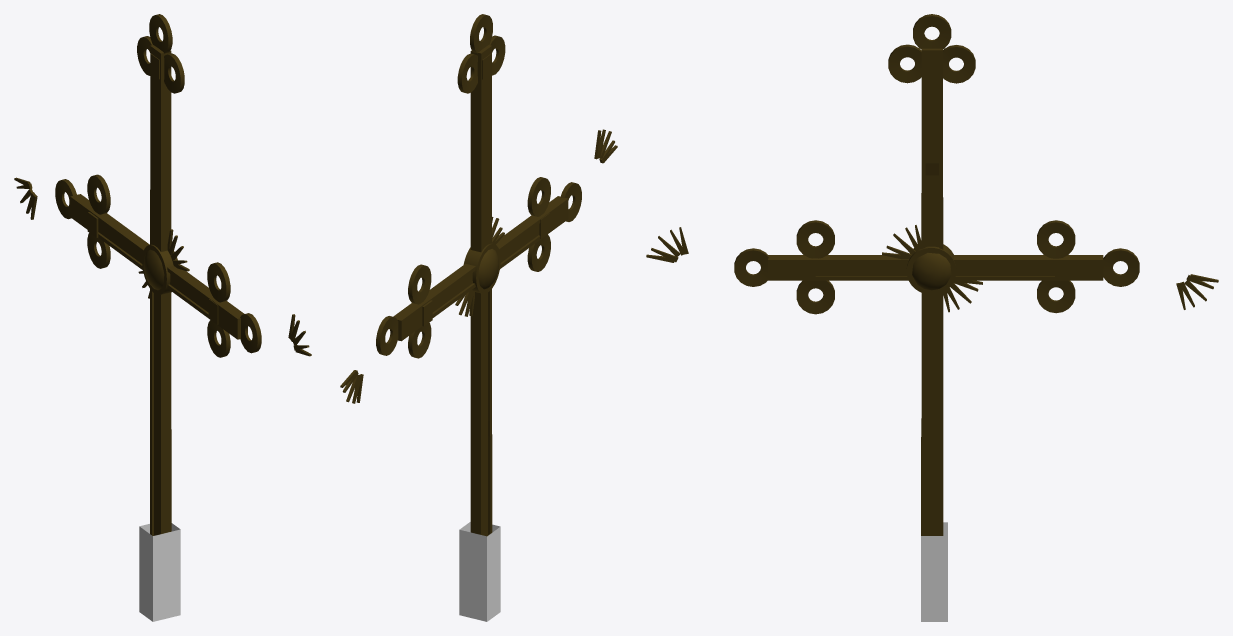
The model's file is Krest.FBX.
3 views of the same model, side by side, from view 1: azimuth 30°, elevation 25°; view 2: azimuth 150°, elevation 25°; view 3: azimuth 270°, elevation 25° (orthographic).
Parts seen in each view (by area): view 1: cross005, Box001; view 2: cross005, Box001, Object002, Object003; view 3: cross005, Box001.
Boxes of the visible parts, x1=… form: cross005: x1=55, y1=14, x2=261, y2=535; Box001: x1=139, y1=523, x2=180, y2=621; cross005: x1=376, y1=14, x2=581, y2=536; Box001: x1=459, y1=522, x2=500, y2=621; Object002: x1=340, y1=370, x2=363, y2=403; Object003: x1=594, y1=129, x2=617, y2=163; cross005: x1=734, y1=14, x2=1139, y2=535; Box001: x1=921, y1=522, x2=947, y2=621.
Bounding box in the file's own units: 6.36 × 131 × 113.
